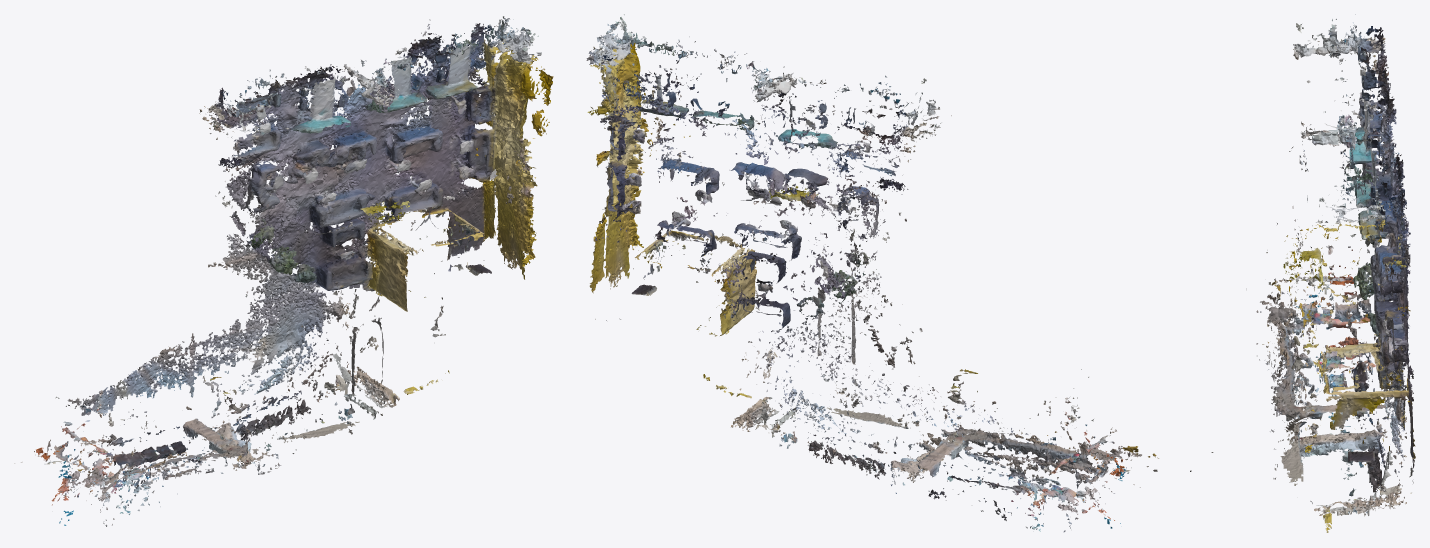
File: lounge_gsicp.glb
3 renders of one model, left to right at view 1: azimuth 30°, elevation 25°; view 2: azimuth 150°, elevation 25°; view 3: azimuth 270°, elevation 25°, orthographic. The views are drawn at different scales.
Visible parts, largest first — view 1: lounge_gsicp.ply; view 2: lounge_gsicp.ply; view 3: lounge_gsicp.ply.
Boxes of the visible parts, <box> form: lounge_gsicp.ply: <box>14,16,553,526</box>; lounge_gsicp.ply: <box>586,14,1213,532</box>; lounge_gsicp.ply: <box>1246,14,1415,532</box>.
Size of the model in its own units: 20.84 by 15.1 by 4.86.
